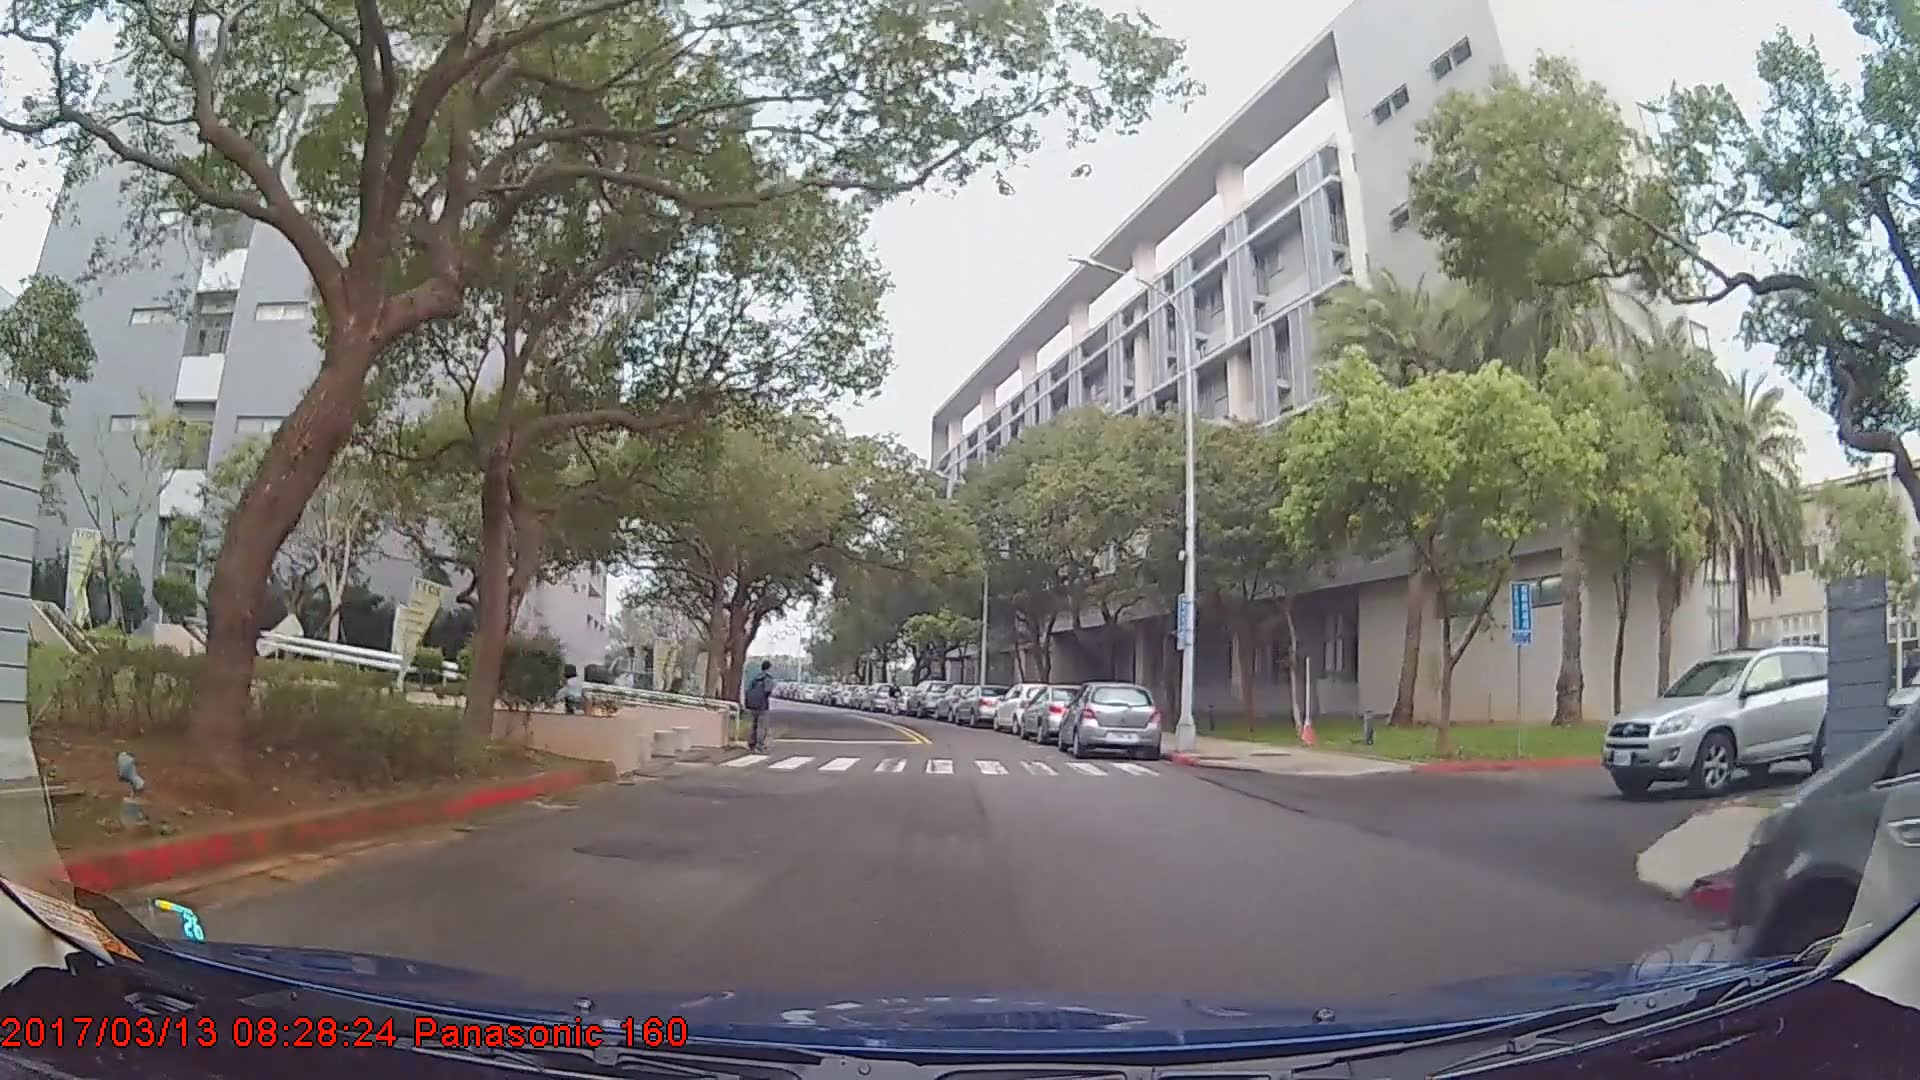pedestrian: (729, 651, 788, 756), (540, 660, 601, 756)
vehicle: (1602, 643, 1857, 800), (1057, 678, 1160, 759), (1016, 680, 1110, 743), (989, 678, 1064, 733), (954, 682, 1009, 723), (905, 678, 950, 716)
